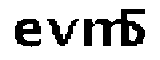6: (124, 6, 153, 52)
e: (12, 16, 43, 54)
m: (83, 17, 125, 51)
v: (46, 16, 80, 50)
